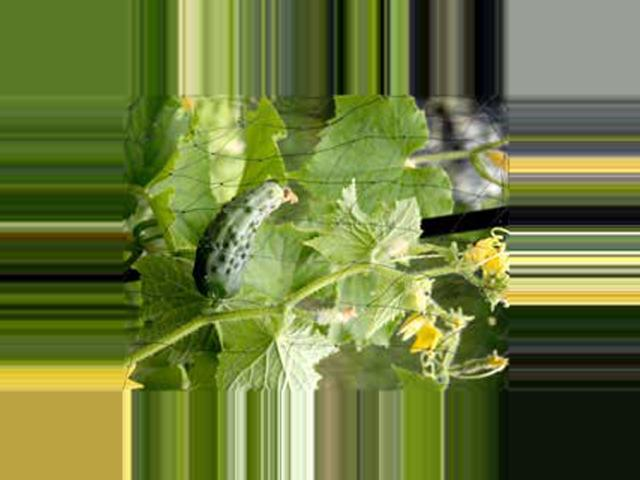cucumber: (193, 180, 298, 302)
